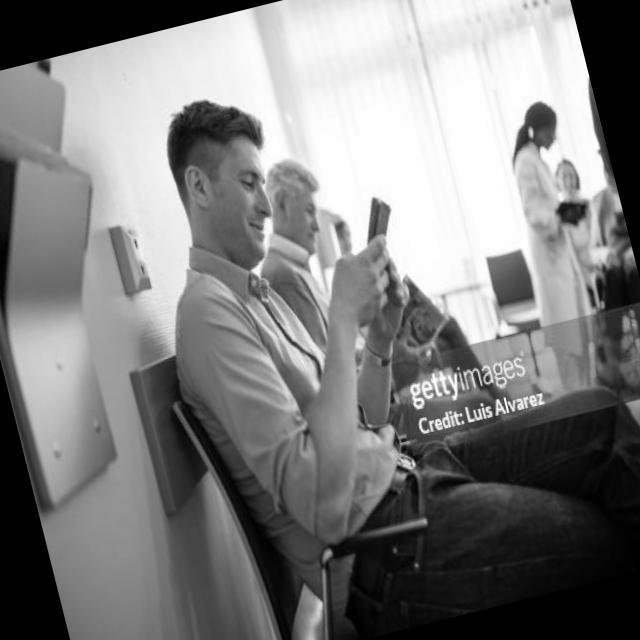phone: (355, 192, 398, 247)
